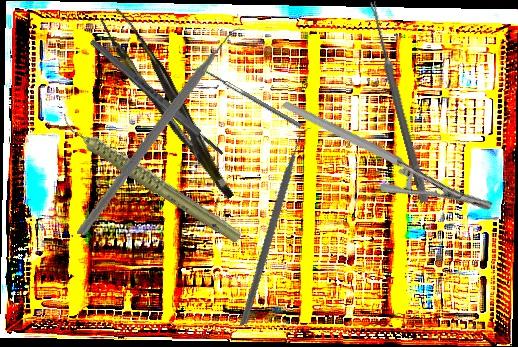Chopper: (77, 15, 256, 249), (195, 125, 364, 326)
Handpiece: (56, 78, 247, 277)
Needle Holder: (281, 46, 495, 264)
Scalpel Handle: (88, 36, 226, 159)
Spatula Surgical: (190, 62, 303, 133)
Surgical Spoon: (366, 0, 431, 204)
Tissue Forceps: (98, 1, 235, 213)
